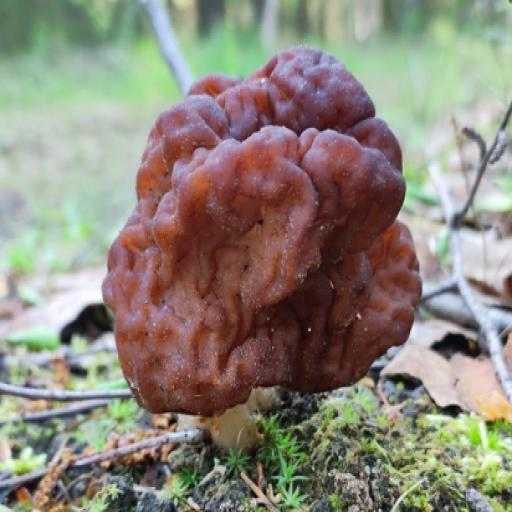mushroom: (101, 36, 432, 431)
